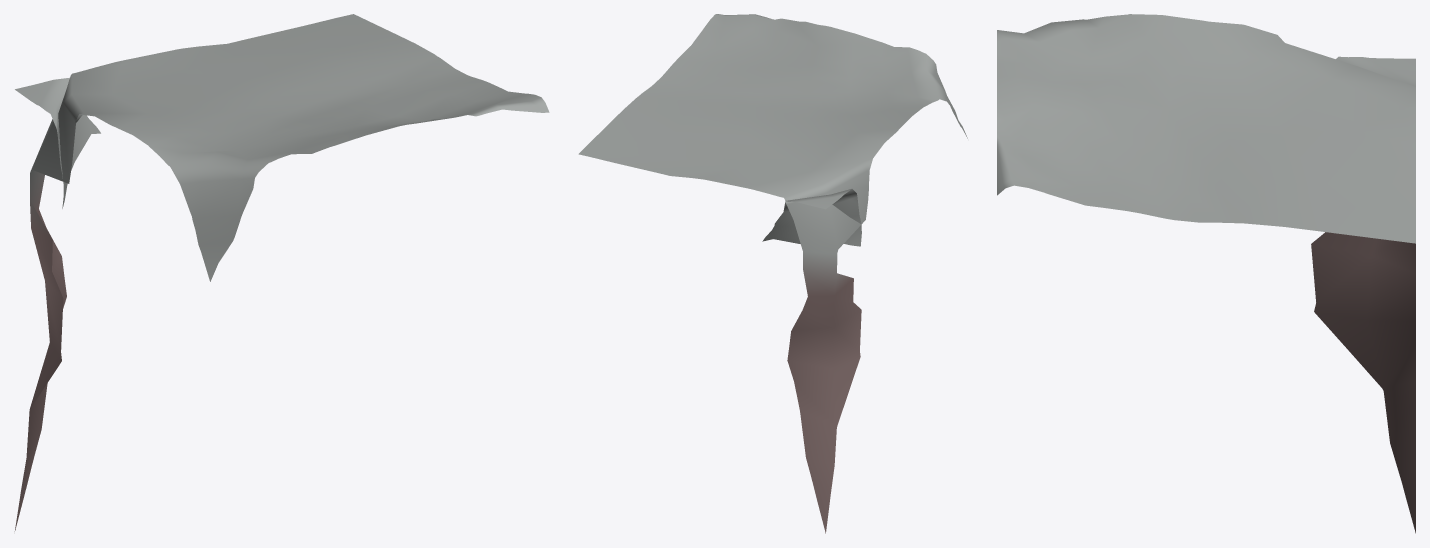
The picture shows the model from 3 angles, left to right: view 1: azimuth 30°, elevation 25°; view 2: azimuth 150°, elevation 25°; view 3: azimuth 270°, elevation 25°; orthographic projection. The views are drawn at different scales.
Parts seen in each view (by area): view 1: G:\FFXIV-MapTools\exports\u5f1\bg\ex4\04_uvs_u5\fld\u5f1\bgp (×6); view 2: G:\FFXIV-MapTools\exports\u5f1\bg\ex4\04_uvs_u5\fld\u5f1\bgp (×6); view 3: G:\FFXIV-MapTools\exports\u5f1\bg\ex4\04_uvs_u5\fld\u5f1\bgp (×4).
Part boxes in pixels (x1,y1,x2,y2): G:\FFXIV-MapTools\exports\u5f1\bg\ex4\04_uvs_u5\fld\u5f1\bgp (×6): [14, 14, 545, 531]; G:\FFXIV-MapTools\exports\u5f1\bg\ex4\04_uvs_u5\fld\u5f1\bgp (×6): [578, 14, 967, 533]; G:\FFXIV-MapTools\exports\u5f1\bg\ex4\04_uvs_u5\fld\u5f1\bgp (×4): [997, 14, 1415, 533].
Bounding box in the file's own units: 128 × 182 × 128.
